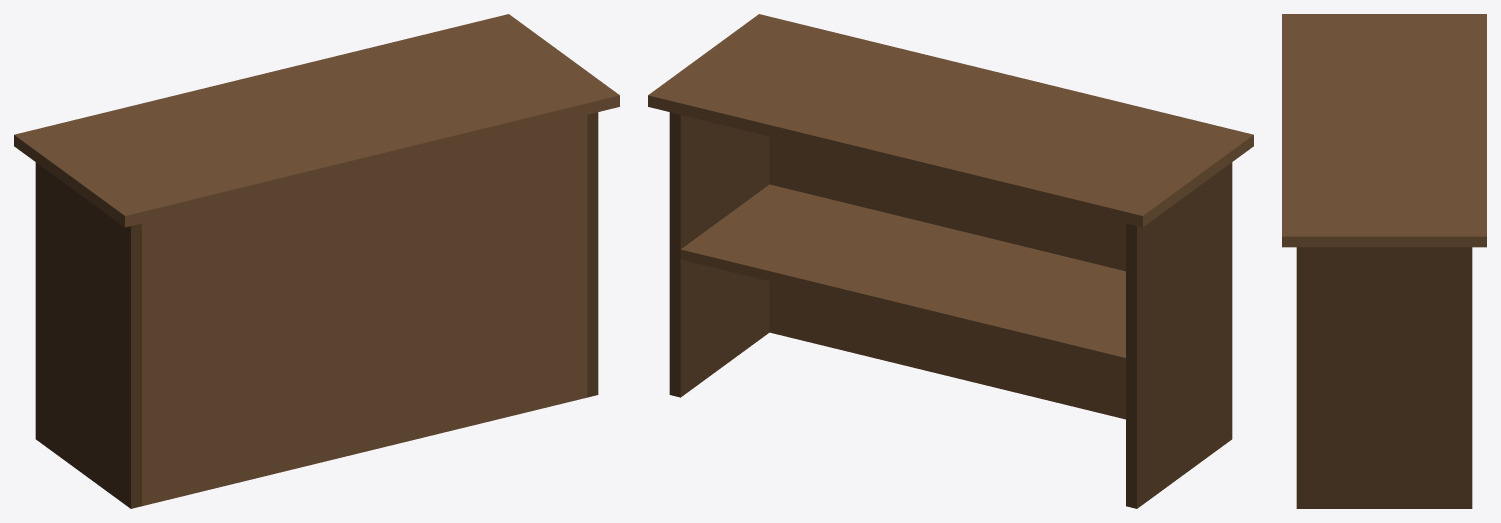
File: prop_admin_counter.obj
3 views of the same model, side by side, from view 1: azimuth 30°, elevation 25°; view 2: azimuth 150°, elevation 25°; view 3: azimuth 270°, elevation 25° (orthographic). The views are drawn at different scales.
Parts seen in each view (by area): view 1: prop_admin_counter; view 2: prop_admin_counter; view 3: prop_admin_counter.
Boxes of the visible parts, <box> form: prop_admin_counter: <box>14,14,619,508</box>; prop_admin_counter: <box>648,14,1253,508</box>; prop_admin_counter: <box>1282,14,1486,508</box>.
Size of the model in its own units: 1.8 by 1.05 by 0.7.
